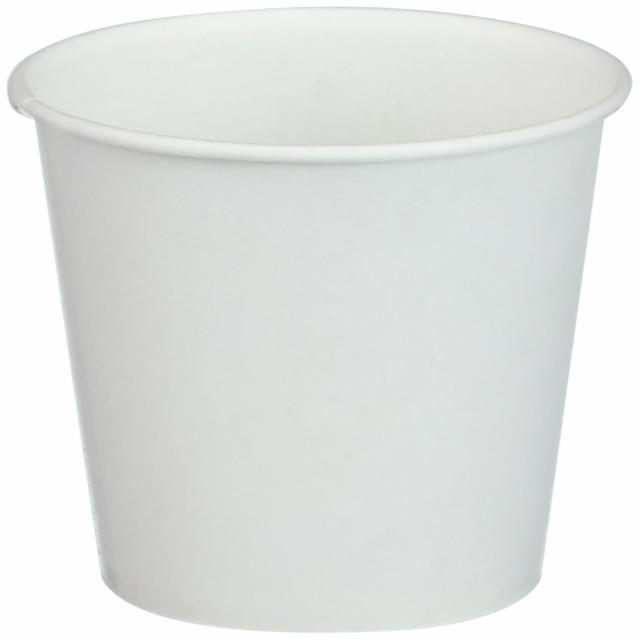trash: (3, 6, 633, 634)
